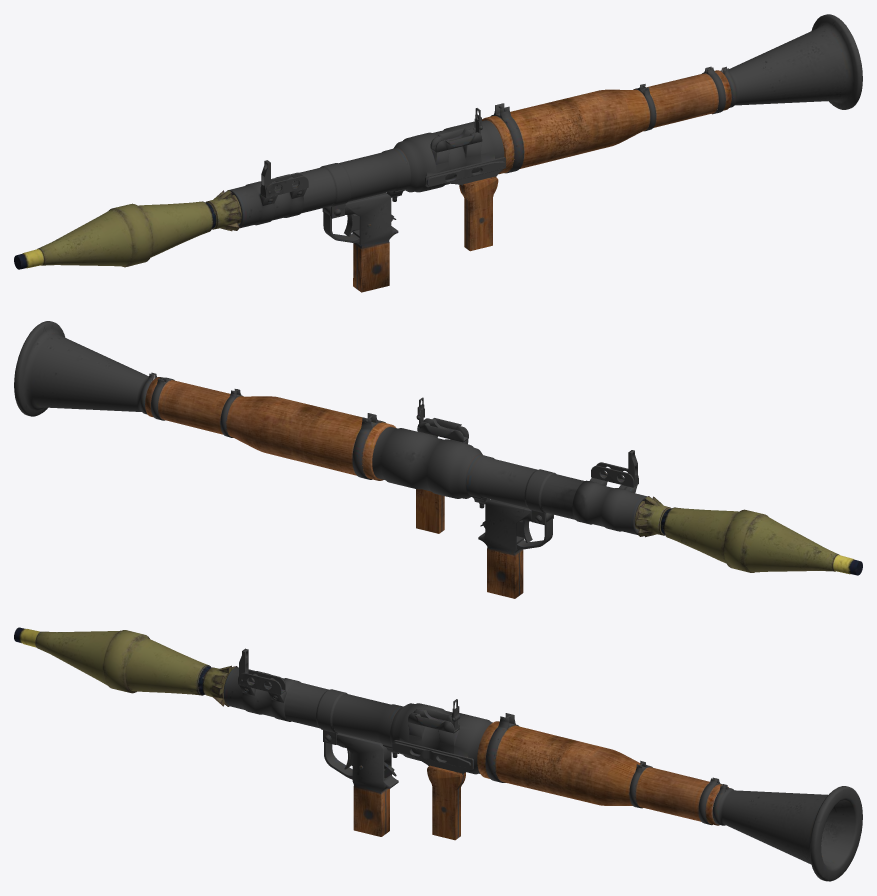
The model's file is rpg.glb.
The picture shows the model from 3 angles, top to bottom: view 1: azimuth 30°, elevation 25°; view 2: azimuth 150°, elevation 25°; view 3: azimuth 330°, elevation 25°; orthographic projection.
Parts seen in each view (by area): view 1: Base Mira Trasera_high_VR_DefaultMaterial_0; view 2: Base Mira Trasera_high_VR_DefaultMaterial_0; view 3: Base Mira Trasera_high_VR_DefaultMaterial_0.
Part boxes in pixels (left/top/right/bottom): Base Mira Trasera_high_VR_DefaultMaterial_0: left=14, top=14, right=862, bottom=292; Base Mira Trasera_high_VR_DefaultMaterial_0: left=14, top=321, right=862, bottom=598; Base Mira Trasera_high_VR_DefaultMaterial_0: left=14, top=627, right=862, bottom=881.
Size of the model in its own units: 0.95 by 0.1791 by 0.0973.
Materials: 1 (1 with a texture image).
